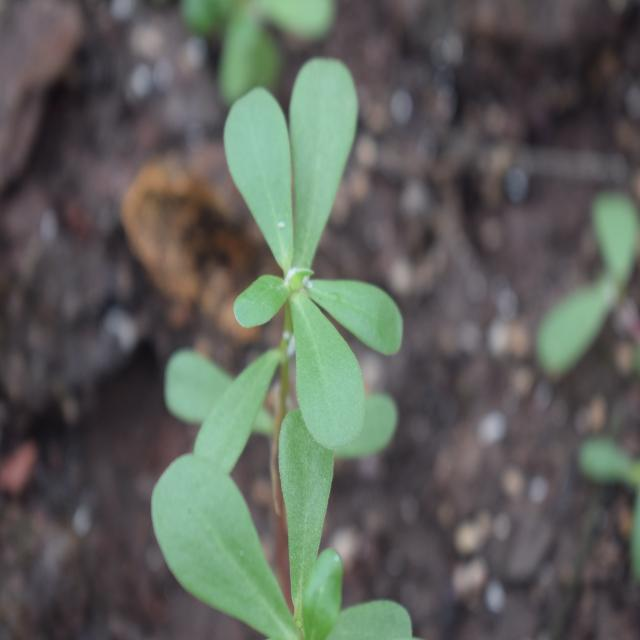purslane: (164, 46, 426, 635)
